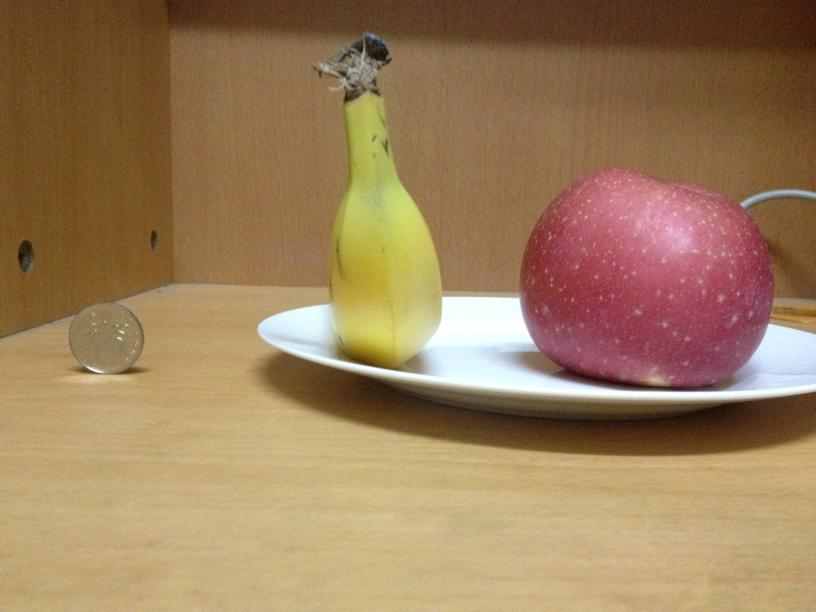apple: (521, 163, 775, 386)
banana: (320, 102, 445, 367)
coin: (67, 301, 142, 373)
